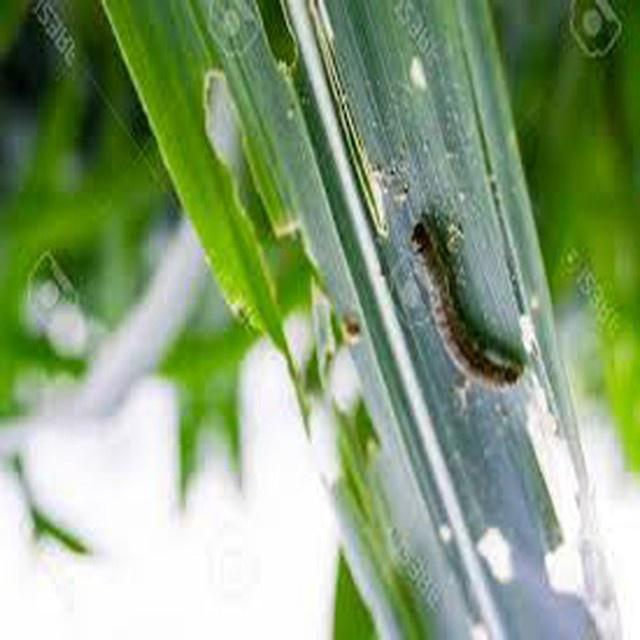gusano_cogollero: (412, 227, 522, 390)
